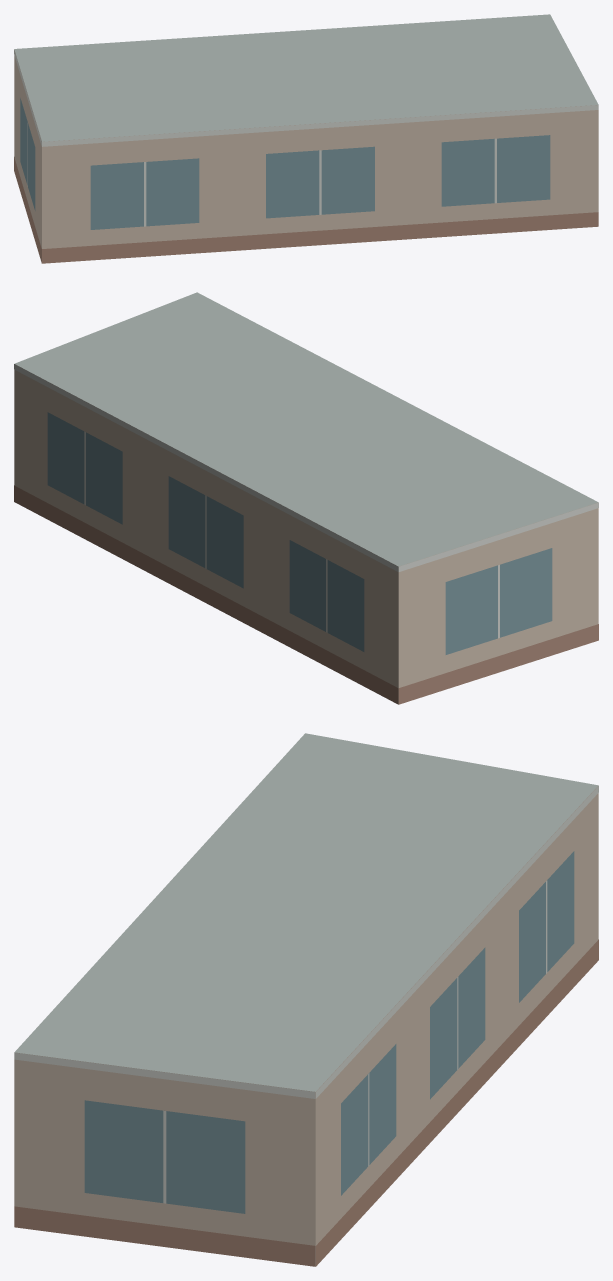
Rendered from survey-upis-32987568.glb.
3 renders of one model, top to bottom at view 1: azimuth 30°, elevation 25°; view 2: azimuth 150°, elevation 25°; view 3: azimuth 270°, elevation 25°, orthographic. The views are drawn at different scales.
Parts seen in each view (by area): view 1: survey-upis-32987568.tmp; view 2: survey-upis-32987568.tmp; view 3: survey-upis-32987568.tmp.
Part boxes in pixels (x1,y1,x2,y2): survey-upis-32987568.tmp: (14,14,598,263); survey-upis-32987568.tmp: (14,292,598,704); survey-upis-32987568.tmp: (14,733,598,1266).
Bounding box in the file's own units: 13.43 × 3.05 × 9.25.
